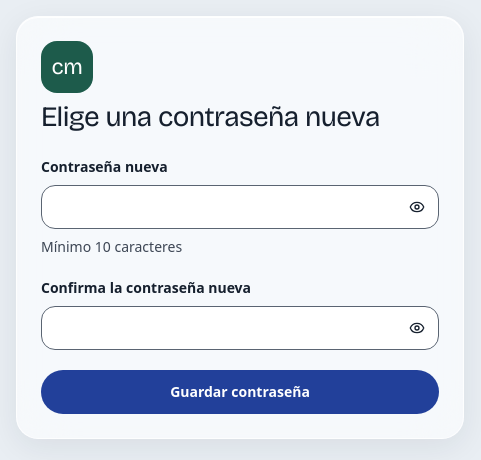
Test: ataque (AUTH-02b r2): T-01, el token sale de la caché al asentarse la mutación › /restablecer: ENLACE_INVALIDO deja la pantalla de enlace inválido y el token fuera de la caché
Expected: the button "Guardar contraseña" is shown, [41, 370, 439, 414]
Type "clave-nueva-de-ataque-2" into the password field labelled "Contraseña nueva".
click(240, 208); type("clave-nueva-de-ataque-2")  # box [41, 186, 439, 230]
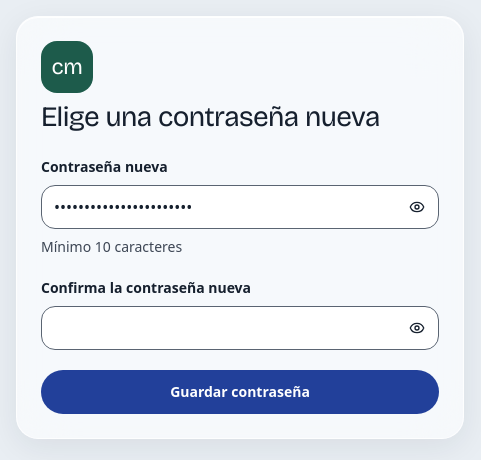
Type "clave-nueva-de-ataque-2" into the password field labelled "Confirma la contraseña nueva".
click(240, 328); type("clave-nueva-de-ataque-2")  # box [41, 306, 439, 350]
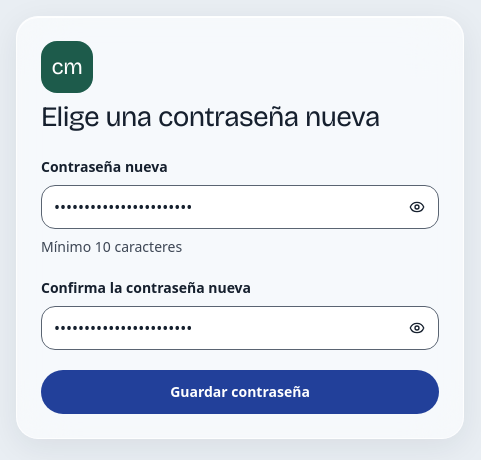
Click the button "Guardar contraseña".
click(240, 392)  # box [41, 370, 439, 414]
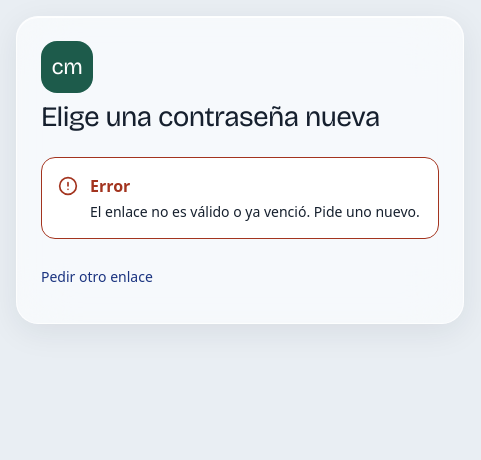
Expected: the message "Error El enlace no es válido o ya venció. Pide uno nuevo." is shown, [41, 157, 439, 240]
